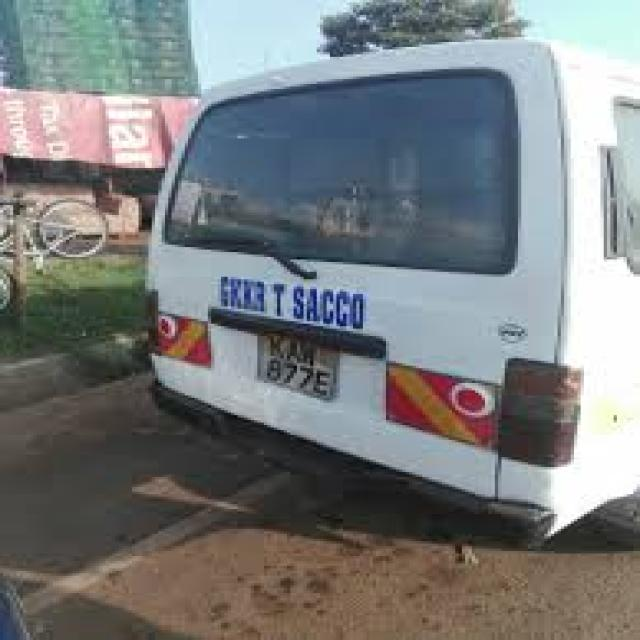matatu: (81, 2, 640, 568)
